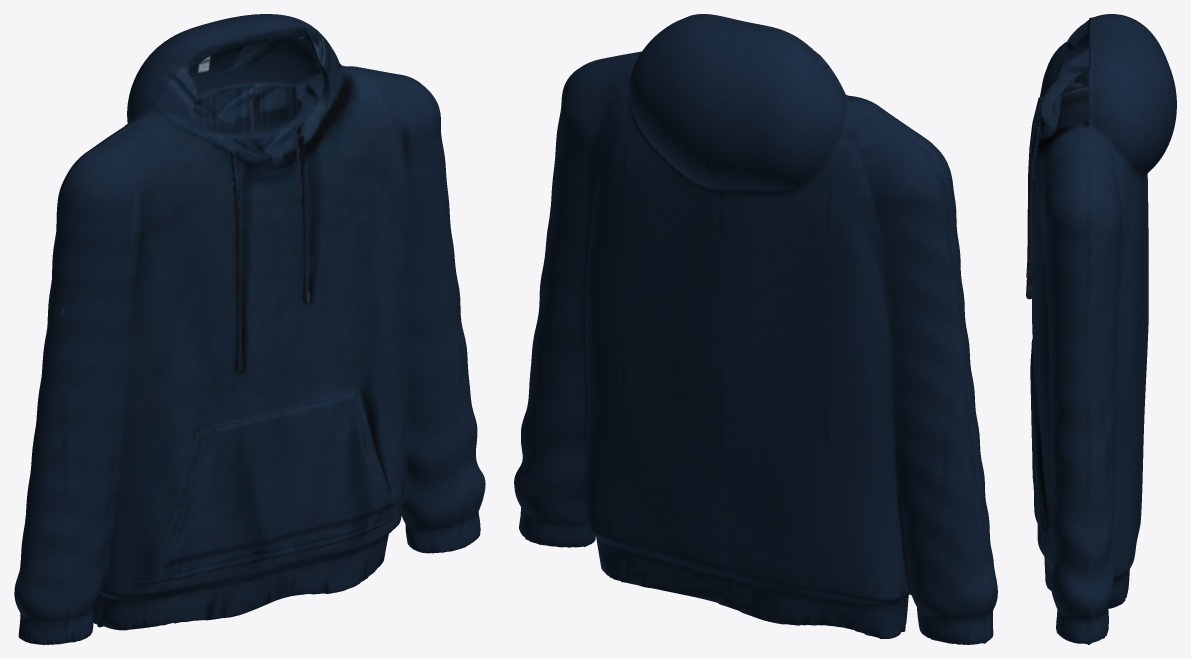
3 renders of one model, left to right at view 1: azimuth 30°, elevation 25°; view 2: azimuth 150°, elevation 25°; view 3: azimuth 270°, elevation 25°, orthographic. The views are drawn at different scales.
Visible parts, largest first — view 1: TT08-W01; view 2: TT08-W01; view 3: TT08-W01.
Boxes of the visible parts, <box> form: TT08-W01: <box>14,14,485,644</box>; TT08-W01: <box>514,14,997,644</box>; TT08-W01: <box>1026,14,1176,644</box>.
Bounding box in the file's own units: 0.8655 × 1 × 0.2633.
Materials: 1 (1 with a texture image).
